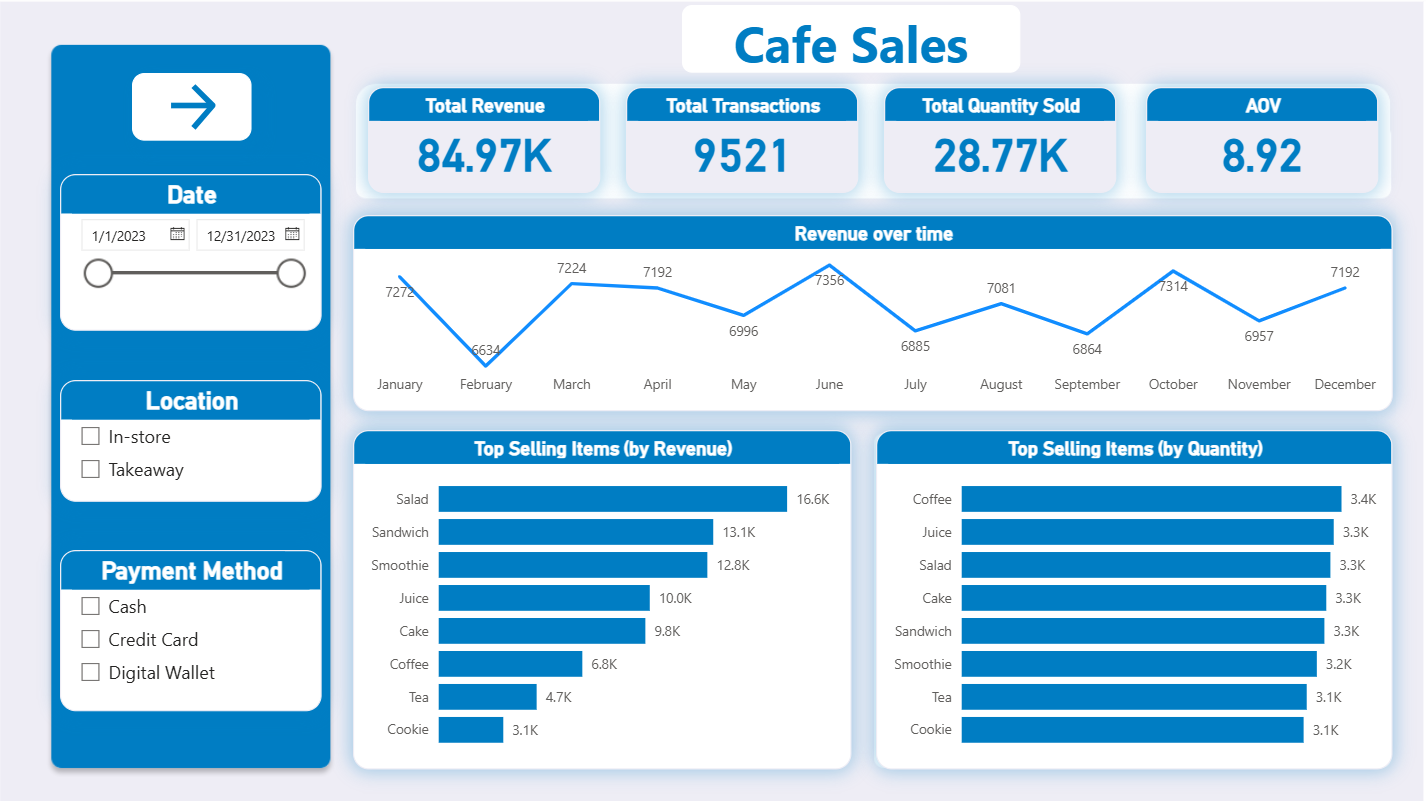

What the dashboard file says about the page in this screenshot:
{"tool":"powerbi","page":{"name":"Sales Performance Overview","canvas":[1280,720],"ordinal":0},"visuals":[{"type":"image","box":[0,0,1280,719.8],"z":0},{"type":"card","title":"Total Revenue","fields":{"Values":["Dax Measure.Total Revenue"]},"box":[335.6,80.7,206.2,94.3],"z":1000},{"type":"card","title":"Total Transactions","fields":{"Values":["Dax Measure.Total Transactions"]},"box":[564.1,80.7,206.2,94.3],"z":2000},{"type":"card","title":"Total Quantity Sold","fields":{"Values":["Dax Measure.Total Quantity Sold"]},"box":[792.7,80.7,206.2,94.3],"z":3000},{"type":"card","title":"AOV","fields":{"Values":["Dax Measure.AOV"]},"box":[1025.2,80.7,206.2,94.3],"z":4000},{"type":"clusteredBarChart","title":"Top Selling Items (by Revenue)","fields":{"Category":["dirty_cafe_sales.Item"],"Y":["Sum(dirty_cafe_sales.Total_Spent)"]},"box":[321.9,385.2,441.6,300.5],"z":5000},{"type":"clusteredBarChart","title":"Top Selling Items (by Quantity)","fields":{"Category":["dirty_cafe_sales.Item"],"Y":["Sum(dirty_cafe_sales.Quantity)"]},"box":[785.9,385.2,458.1,300.5],"z":6000},{"type":"lineChart","title":"Revenue over time","fields":{"Y":["Sum(dirty_cafe_sales.Total_Spent)"],"Category":["dirty_cafe_sales.Transaction Date.Variation.Date Hierarchy.Quarter","dirty_cafe_sales.Transaction Date.Variation.Date Hierarchy.Month","dirty_cafe_sales.Transaction Date.Variation.Date Hierarchy.Day"]},"box":[321.9,194.5,922.1,174.1],"z":7000},{"type":"slicer","title":"Date","fields":{"Values":["dirty_cafe_sales.Transaction Date"]},"box":[62.2,157.6,232.5,139.1],"z":8000},{"type":"slicer","title":"Location","fields":{"Values":["dirty_cafe_sales.Location"]},"box":[62.2,340.4,232.5,108],"z":9000},{"type":"slicer","title":"Payment Method","fields":{"Values":["dirty_cafe_sales.Payment Method"]},"box":[62.2,491.2,232.5,143],"z":10000},{"type":"actionButton","box":[125.5,68.1,106,60.3],"z":11000},{"type":"shape","box":[613.7,7.8,299.6,60.3],"z":12000}]}

Visuals, with their boxes in screenshot pixels (x1, y1, x2, y2), scaled from the page's 1280x720 canvas onto the 1426x801 screenshot:
image: bbox=(0, 0, 1425, 800)
"Total Revenue" card: bbox=(374, 90, 604, 195)
"Total Transactions" card: bbox=(628, 90, 858, 195)
"Total Quantity Sold" card: bbox=(883, 90, 1113, 195)
"AOV" card: bbox=(1142, 90, 1372, 195)
"Top Selling Items (by Revenue)" clusteredBarChart: bbox=(359, 429, 851, 763)
"Top Selling Items (by Quantity)" clusteredBarChart: bbox=(876, 429, 1386, 763)
"Revenue over time" lineChart: bbox=(359, 216, 1386, 410)
"Date" slicer: bbox=(69, 175, 328, 330)
"Location" slicer: bbox=(69, 379, 328, 499)
"Payment Method" slicer: bbox=(69, 546, 328, 706)
actionButton: bbox=(140, 76, 258, 143)
shape: bbox=(684, 9, 1017, 76)
